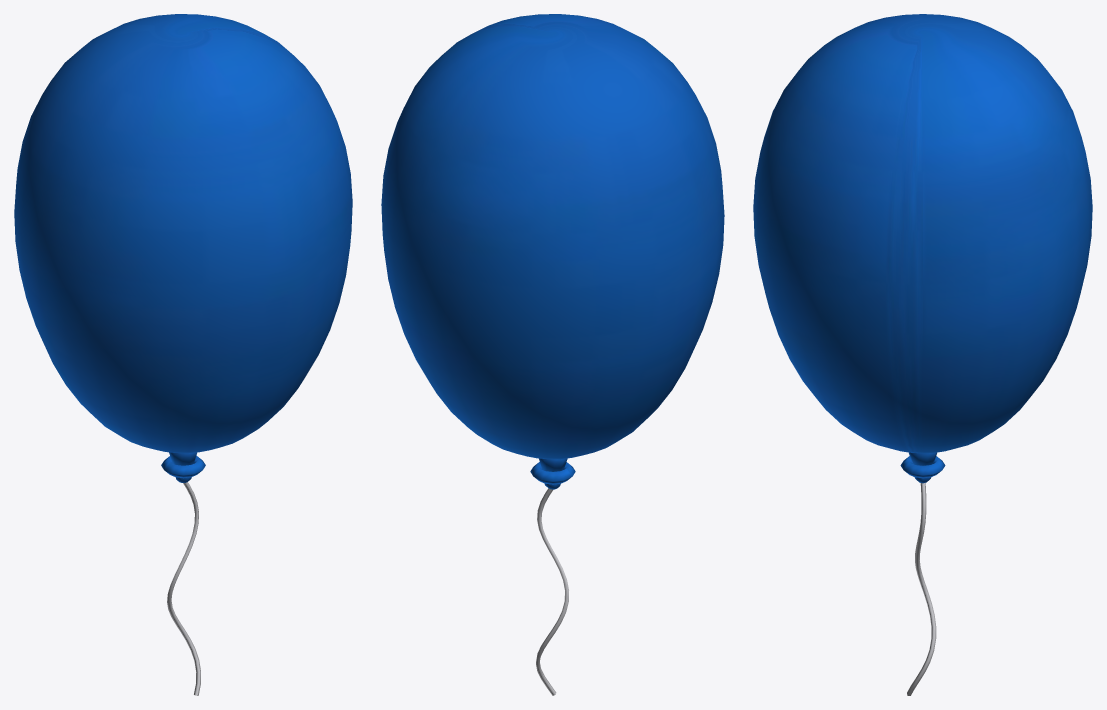
Rendered from bloon_blue.glb.
3 renders of one model, left to right at view 1: azimuth 30°, elevation 25°; view 2: azimuth 150°, elevation 25°; view 3: azimuth 270°, elevation 25°, orthographic.
Parts seen in each view (by area): view 1: bloon_blue; view 2: bloon_blue; view 3: bloon_blue.
Boxes of the visible parts, x1,y1,x2,y2 form: bloon_blue: [14, 14, 352, 695]; bloon_blue: [381, 14, 724, 695]; bloon_blue: [753, 14, 1092, 695].
Size of the model in its own units: 1.09 by 2.33 by 1.09.
2 materials, 1 textured.
